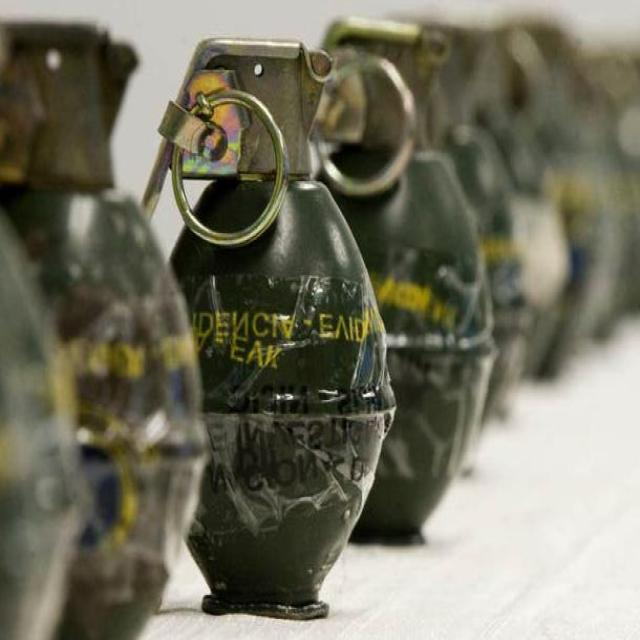grenade: (141, 40, 398, 624), (2, 19, 208, 640), (315, 18, 496, 545), (415, 24, 529, 426), (507, 16, 612, 386), (472, 26, 573, 385), (559, 50, 637, 343), (621, 42, 640, 324)
